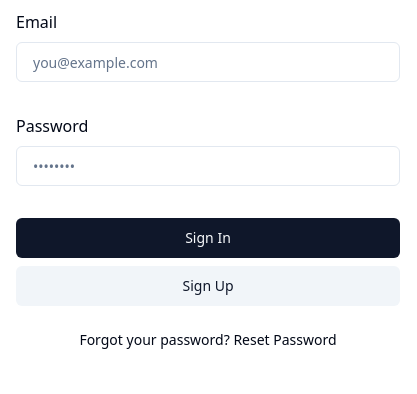
Scenario: LoginPageClient › surfaces weak password instead of a generic signup failure
Type "player@example.com" into the field labelled "Email" at point(208, 62), box left=16, top=42, right=400, bottom=82
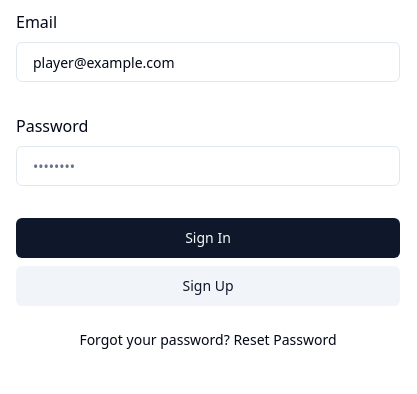
Type "123" into the password field labelled "Password" at point(208, 166), box left=16, top=146, right=400, bottom=186
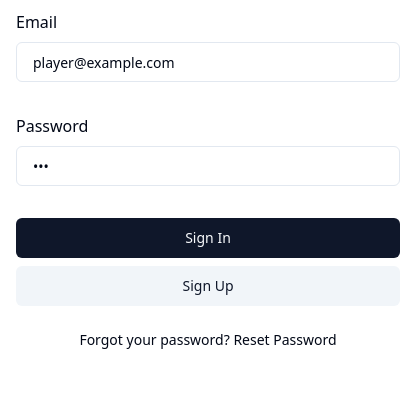
Click the button "Sign Up" at point(208, 286), box left=16, top=266, right=400, bottom=306
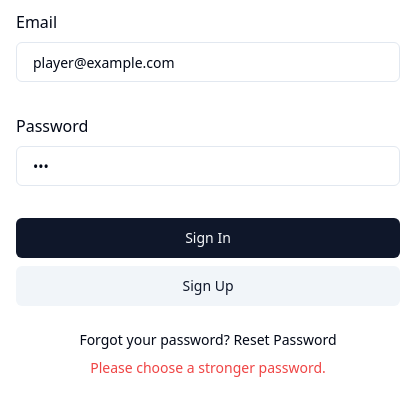
Expected: the text "Please choose a stronger password." is shown, left=90, top=358, right=326, bottom=377
